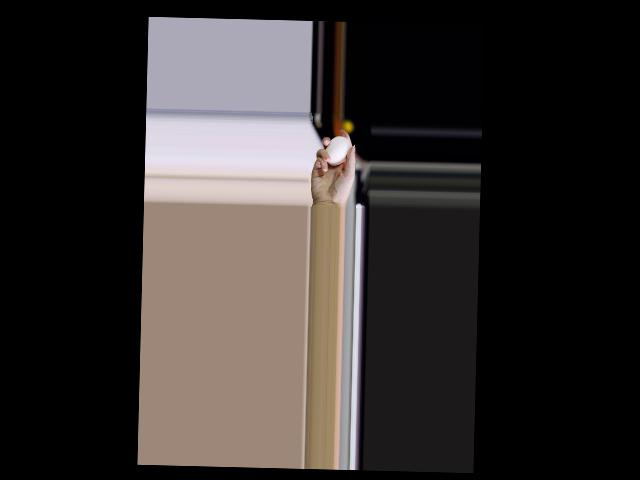egg: (325, 135, 350, 165)
